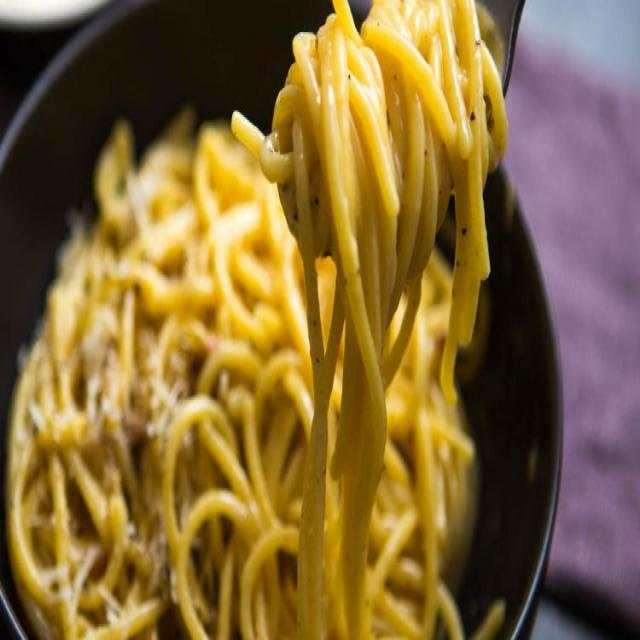Oil pasta: (246, 11, 528, 403)
